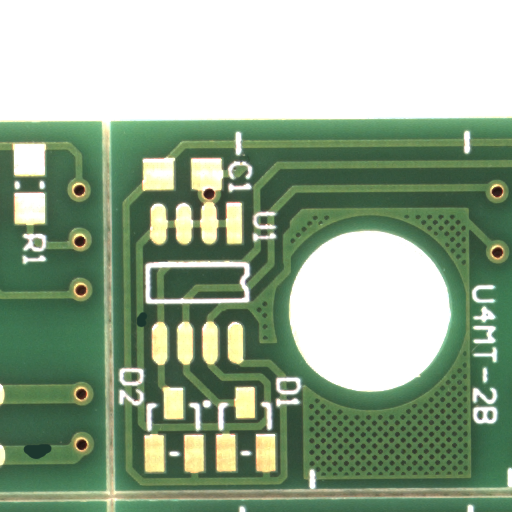Mouse_bite: (38, 451, 69, 466), (141, 319, 153, 333)
